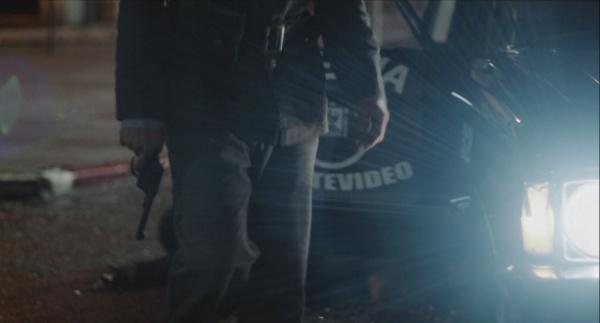Gun: (133, 152, 164, 240)
